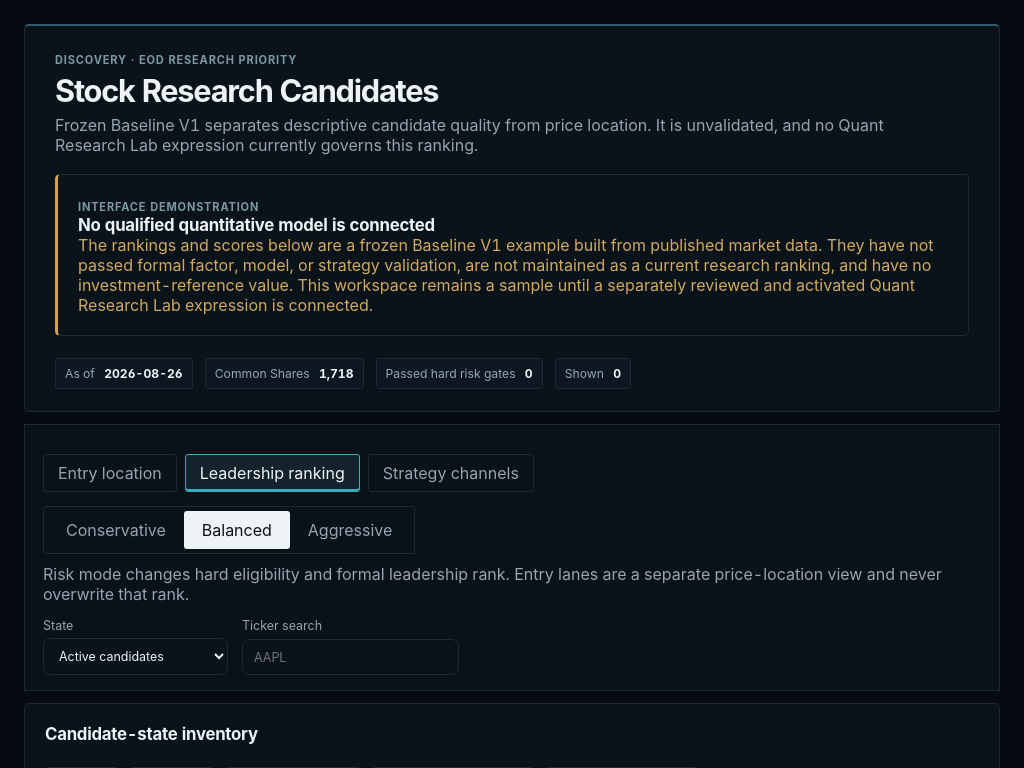
Test case: strategy-channel workspace › fails closed if the bound Candidate detail stable ID differs
Click the button "Strategy channels". click: (451, 473)
box: top-left (368, 454), bottom-right (534, 492)
(page scrolled)
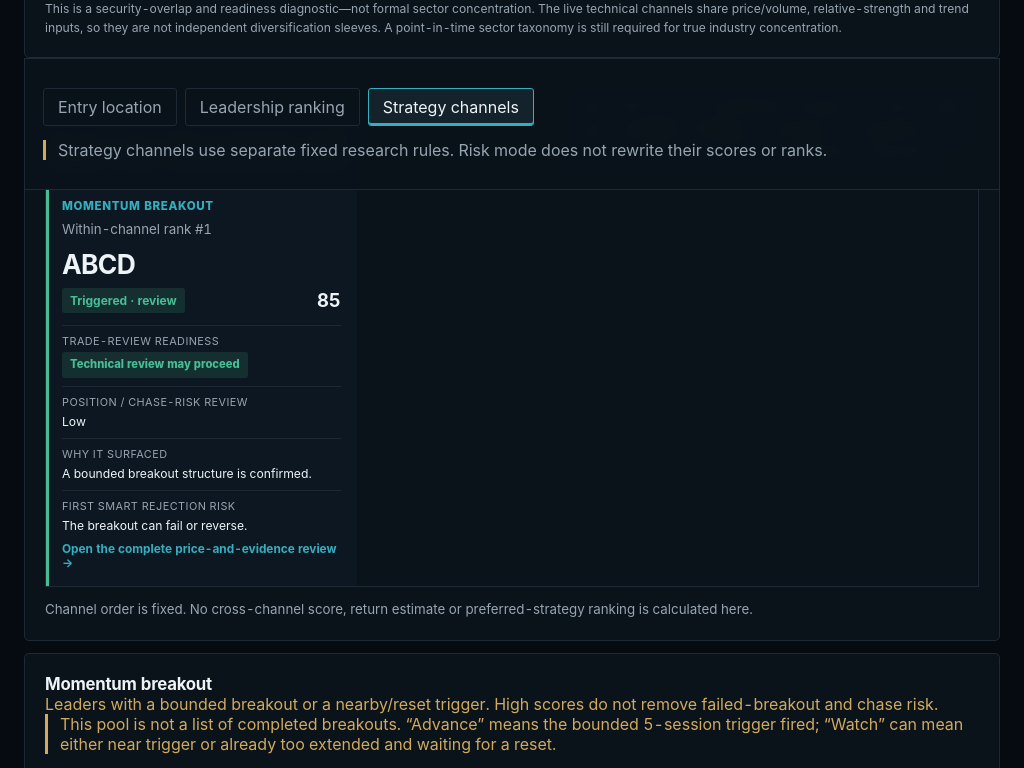
Check: the heading "Today's cross-channel decision desk" is shown, box top-left (45, 146), bottom-right (346, 166)
Click the button "ABCD". click: (201, 384)
box: top-left (46, 183), bottom-right (357, 586)
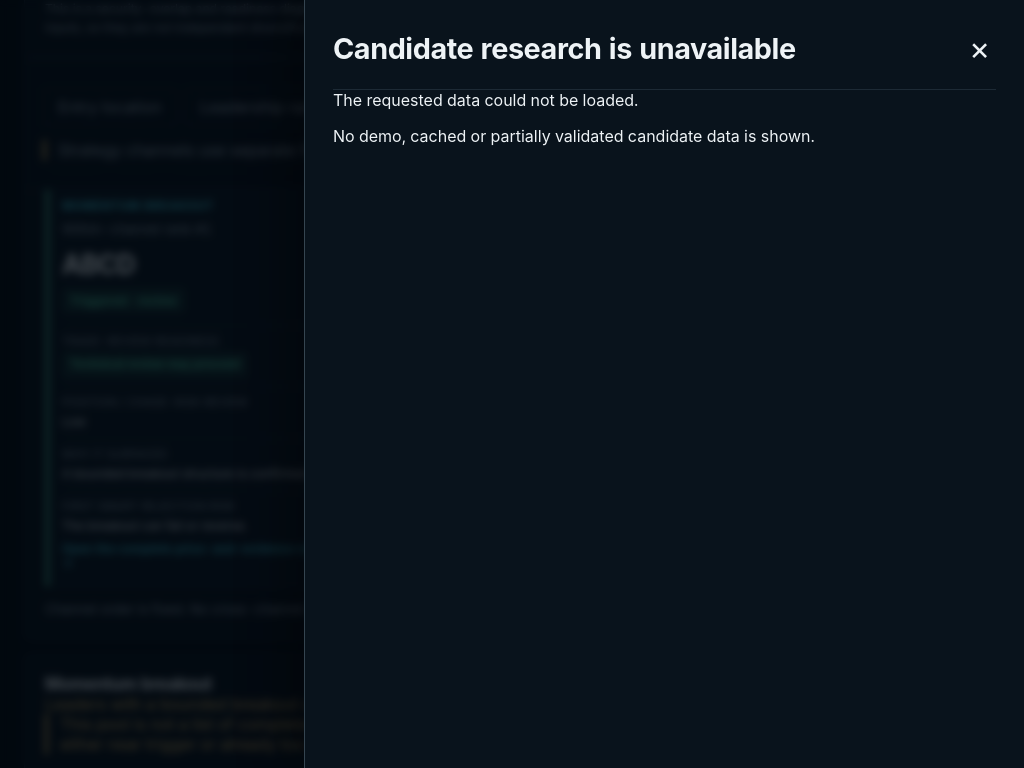
Check: the message shows "The requested data could not be loaded", box top-left (333, 90), bottom-right (638, 110)
